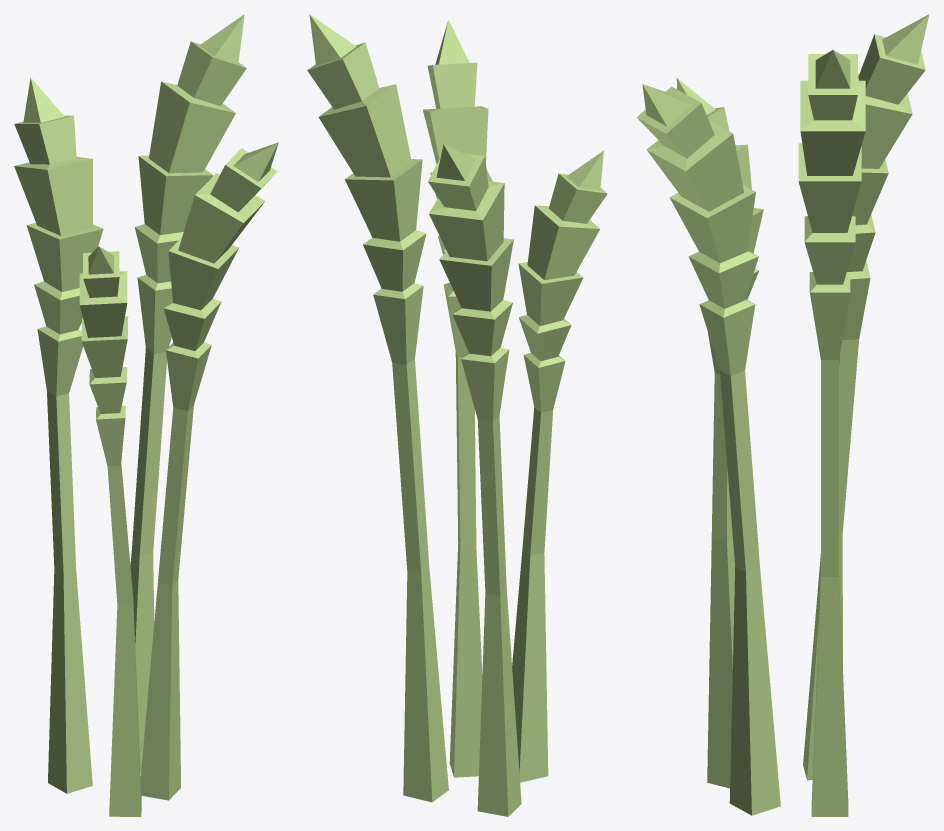
The model's file is shoot_system.glb.
The picture shows the model from 3 angles, left to right: view 1: azimuth 30°, elevation 25°; view 2: azimuth 150°, elevation 25°; view 3: azimuth 270°, elevation 25°; orthographic projection. The views are drawn at different scales.
Parts seen in each view (by area): view 1: Wheat; view 2: Wheat; view 3: Wheat.
Boxes of the visible parts, bbox=[...] form: Wheat: bbox=[14, 14, 278, 816]; Wheat: bbox=[307, 14, 607, 816]; Wheat: bbox=[636, 14, 929, 816].
Bounding box in the file's own units: 61.68 × 190 × 61.45.
